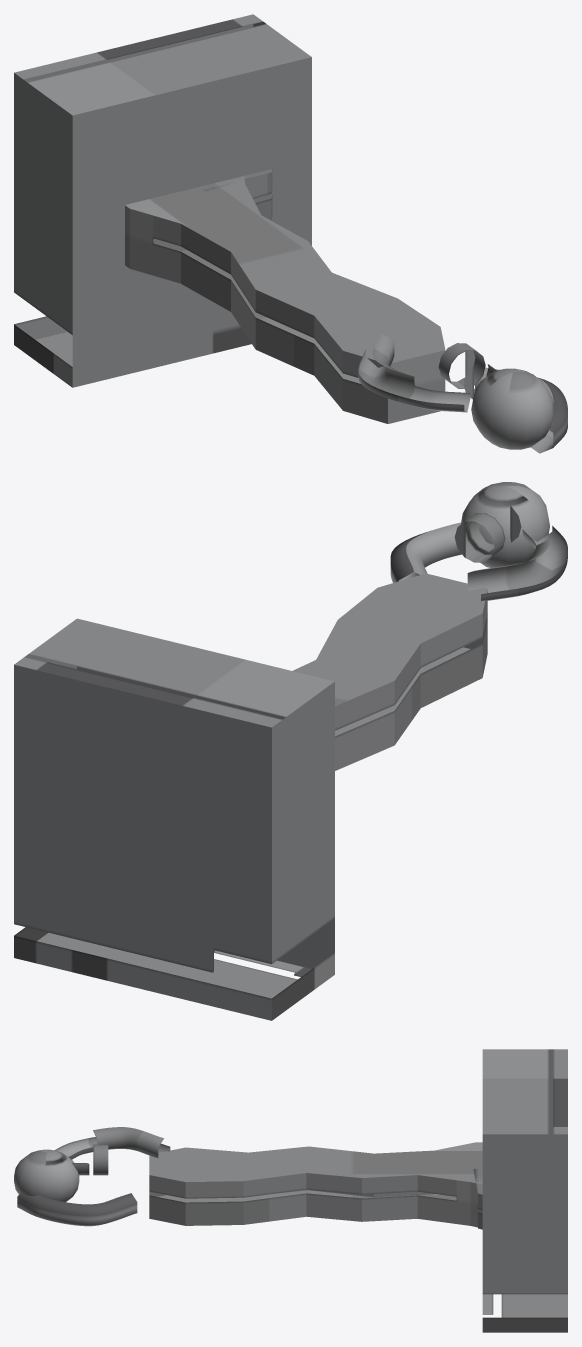
3 renders of one model, top to bottom at view 1: azimuth 30°, elevation 25°; view 2: azimuth 150°, elevation 25°; view 3: azimuth 270°, elevation 25°, orthographic. The views are drawn at different scales.
Bounding box in the file's own units: 0.9004 × 0.9787 × 2.48.
